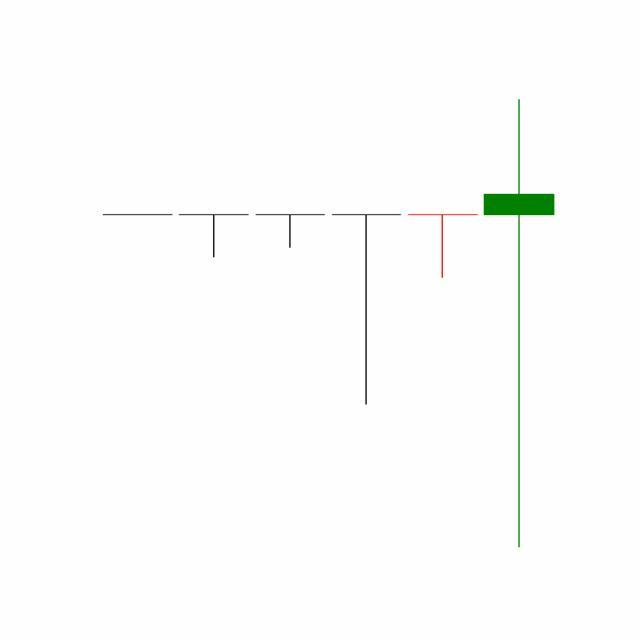Dragonfly Doji: (404, 214, 482, 280)
